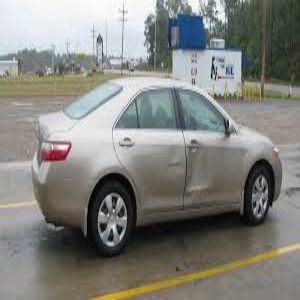door: (156, 144, 222, 206)
